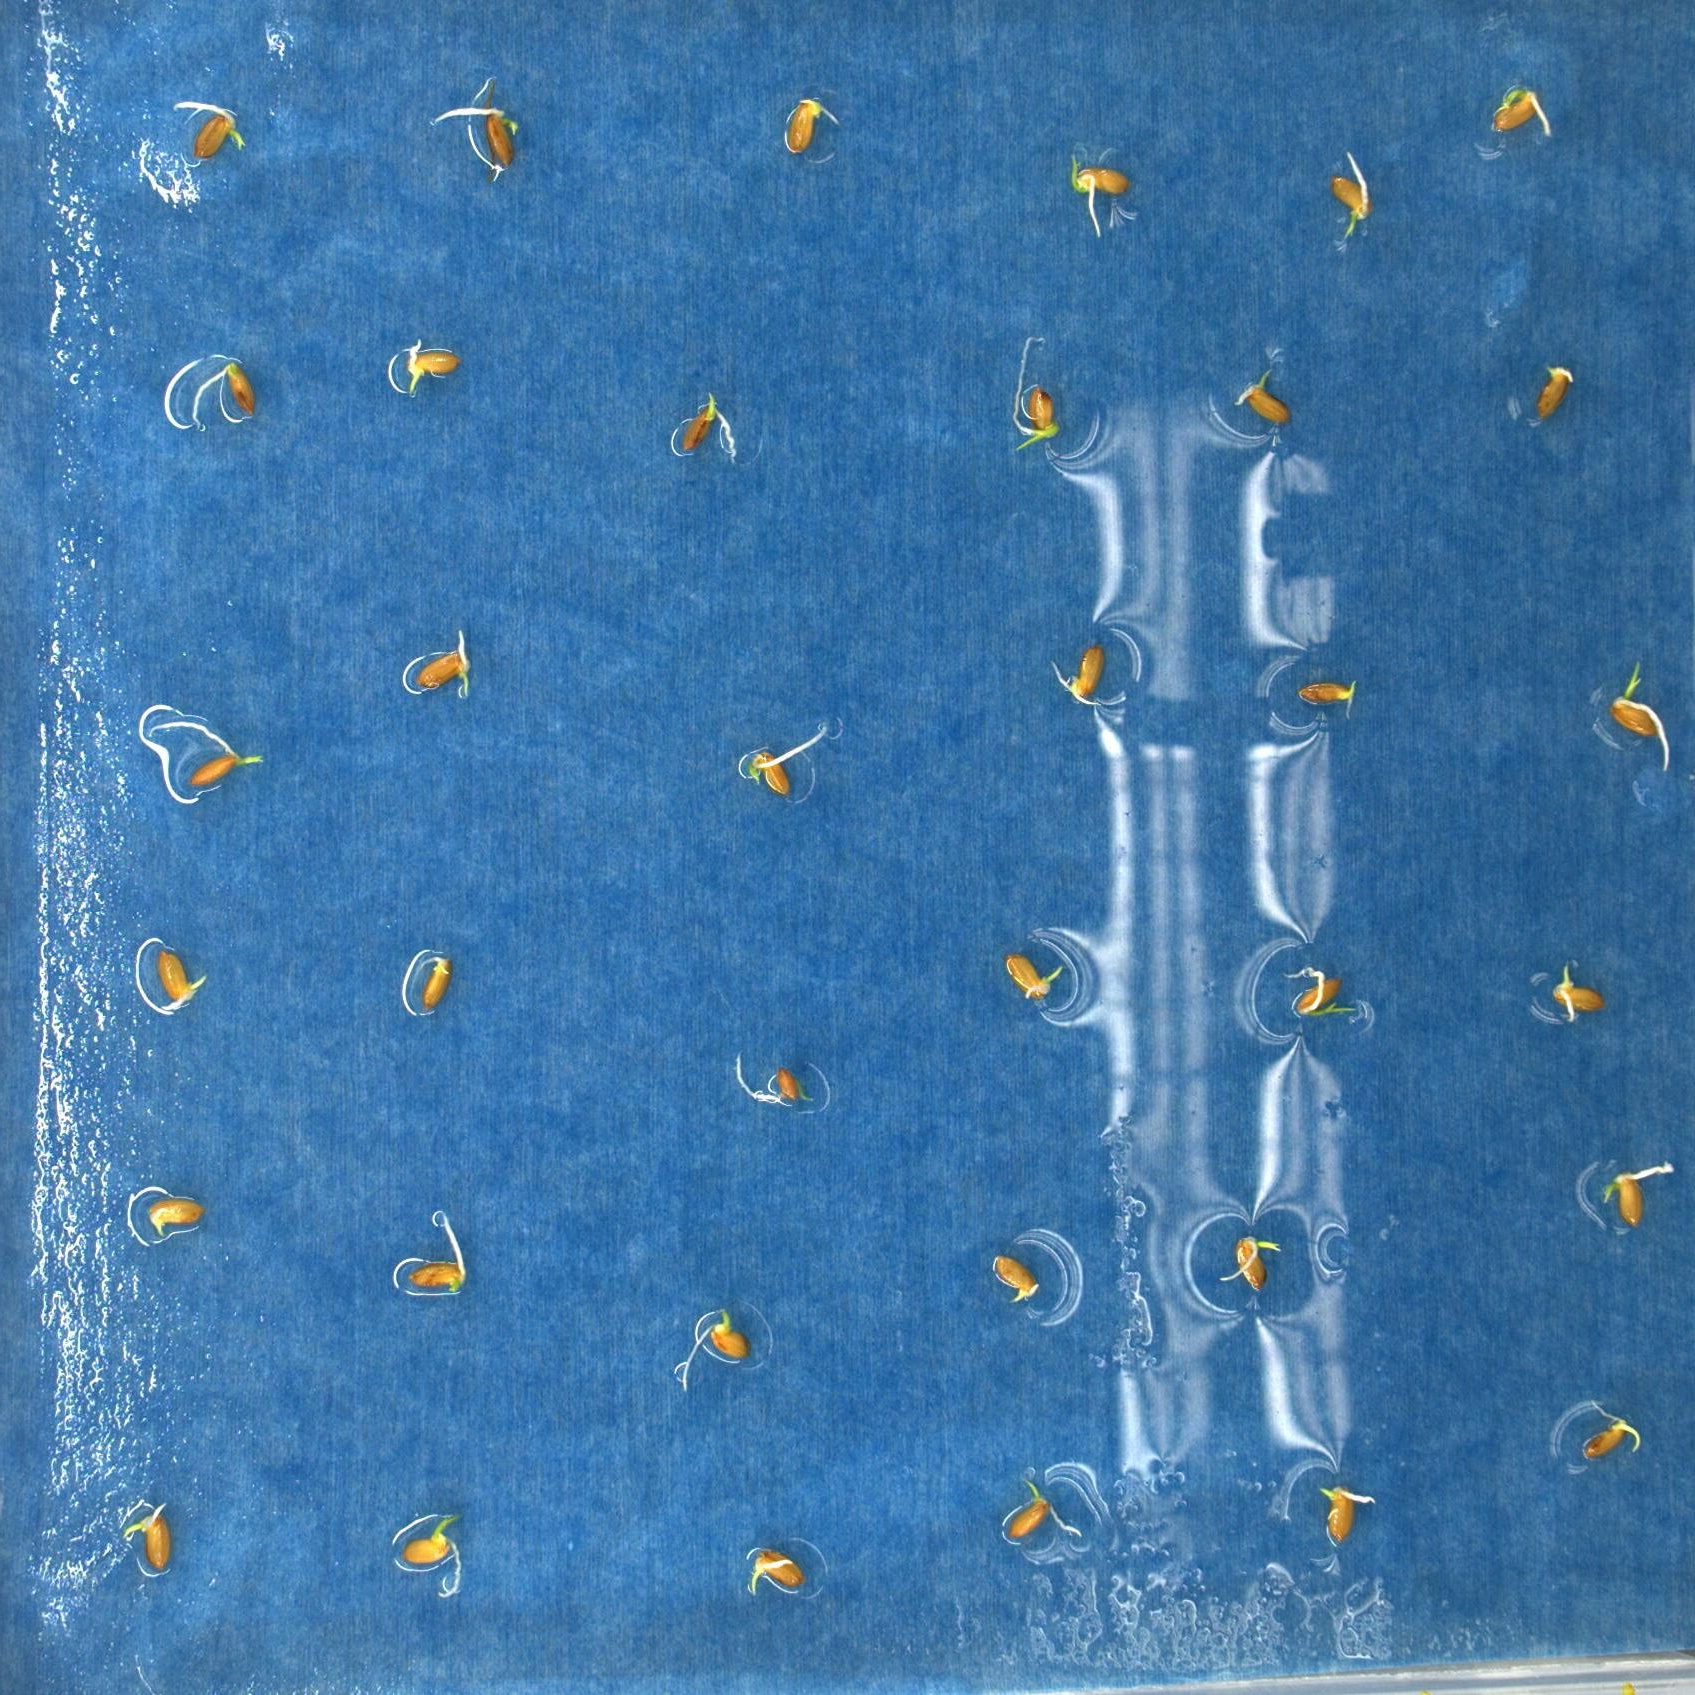not sprout: (390, 1205, 475, 1312), (1051, 629, 1139, 720), (733, 719, 830, 801), (667, 385, 744, 469), (432, 102, 520, 174), (1597, 1159, 1676, 1236), (189, 349, 261, 430), (675, 1307, 747, 1388), (997, 1479, 1087, 1543), (731, 1052, 820, 1114), (171, 98, 255, 161), (404, 627, 477, 700), (120, 1498, 180, 1583), (151, 941, 211, 1021), (771, 95, 846, 160), (1315, 1478, 1385, 1544), (1327, 141, 1371, 248), (394, 334, 467, 397), (1225, 366, 1288, 436), (1548, 959, 1611, 1028), (744, 1534, 807, 1599), (407, 944, 456, 1023), (998, 944, 1063, 1003), (1527, 355, 1579, 430), (1223, 1229, 1277, 1291), (141, 1192, 213, 1239), (989, 1246, 1045, 1305), (1293, 672, 1360, 719)
sprout: (1004, 331, 1066, 461), (394, 1509, 475, 1603), (1607, 661, 1673, 767), (182, 725, 272, 798), (1066, 133, 1127, 241), (1484, 81, 1560, 144), (1288, 961, 1360, 1028), (1571, 1399, 1647, 1456)
